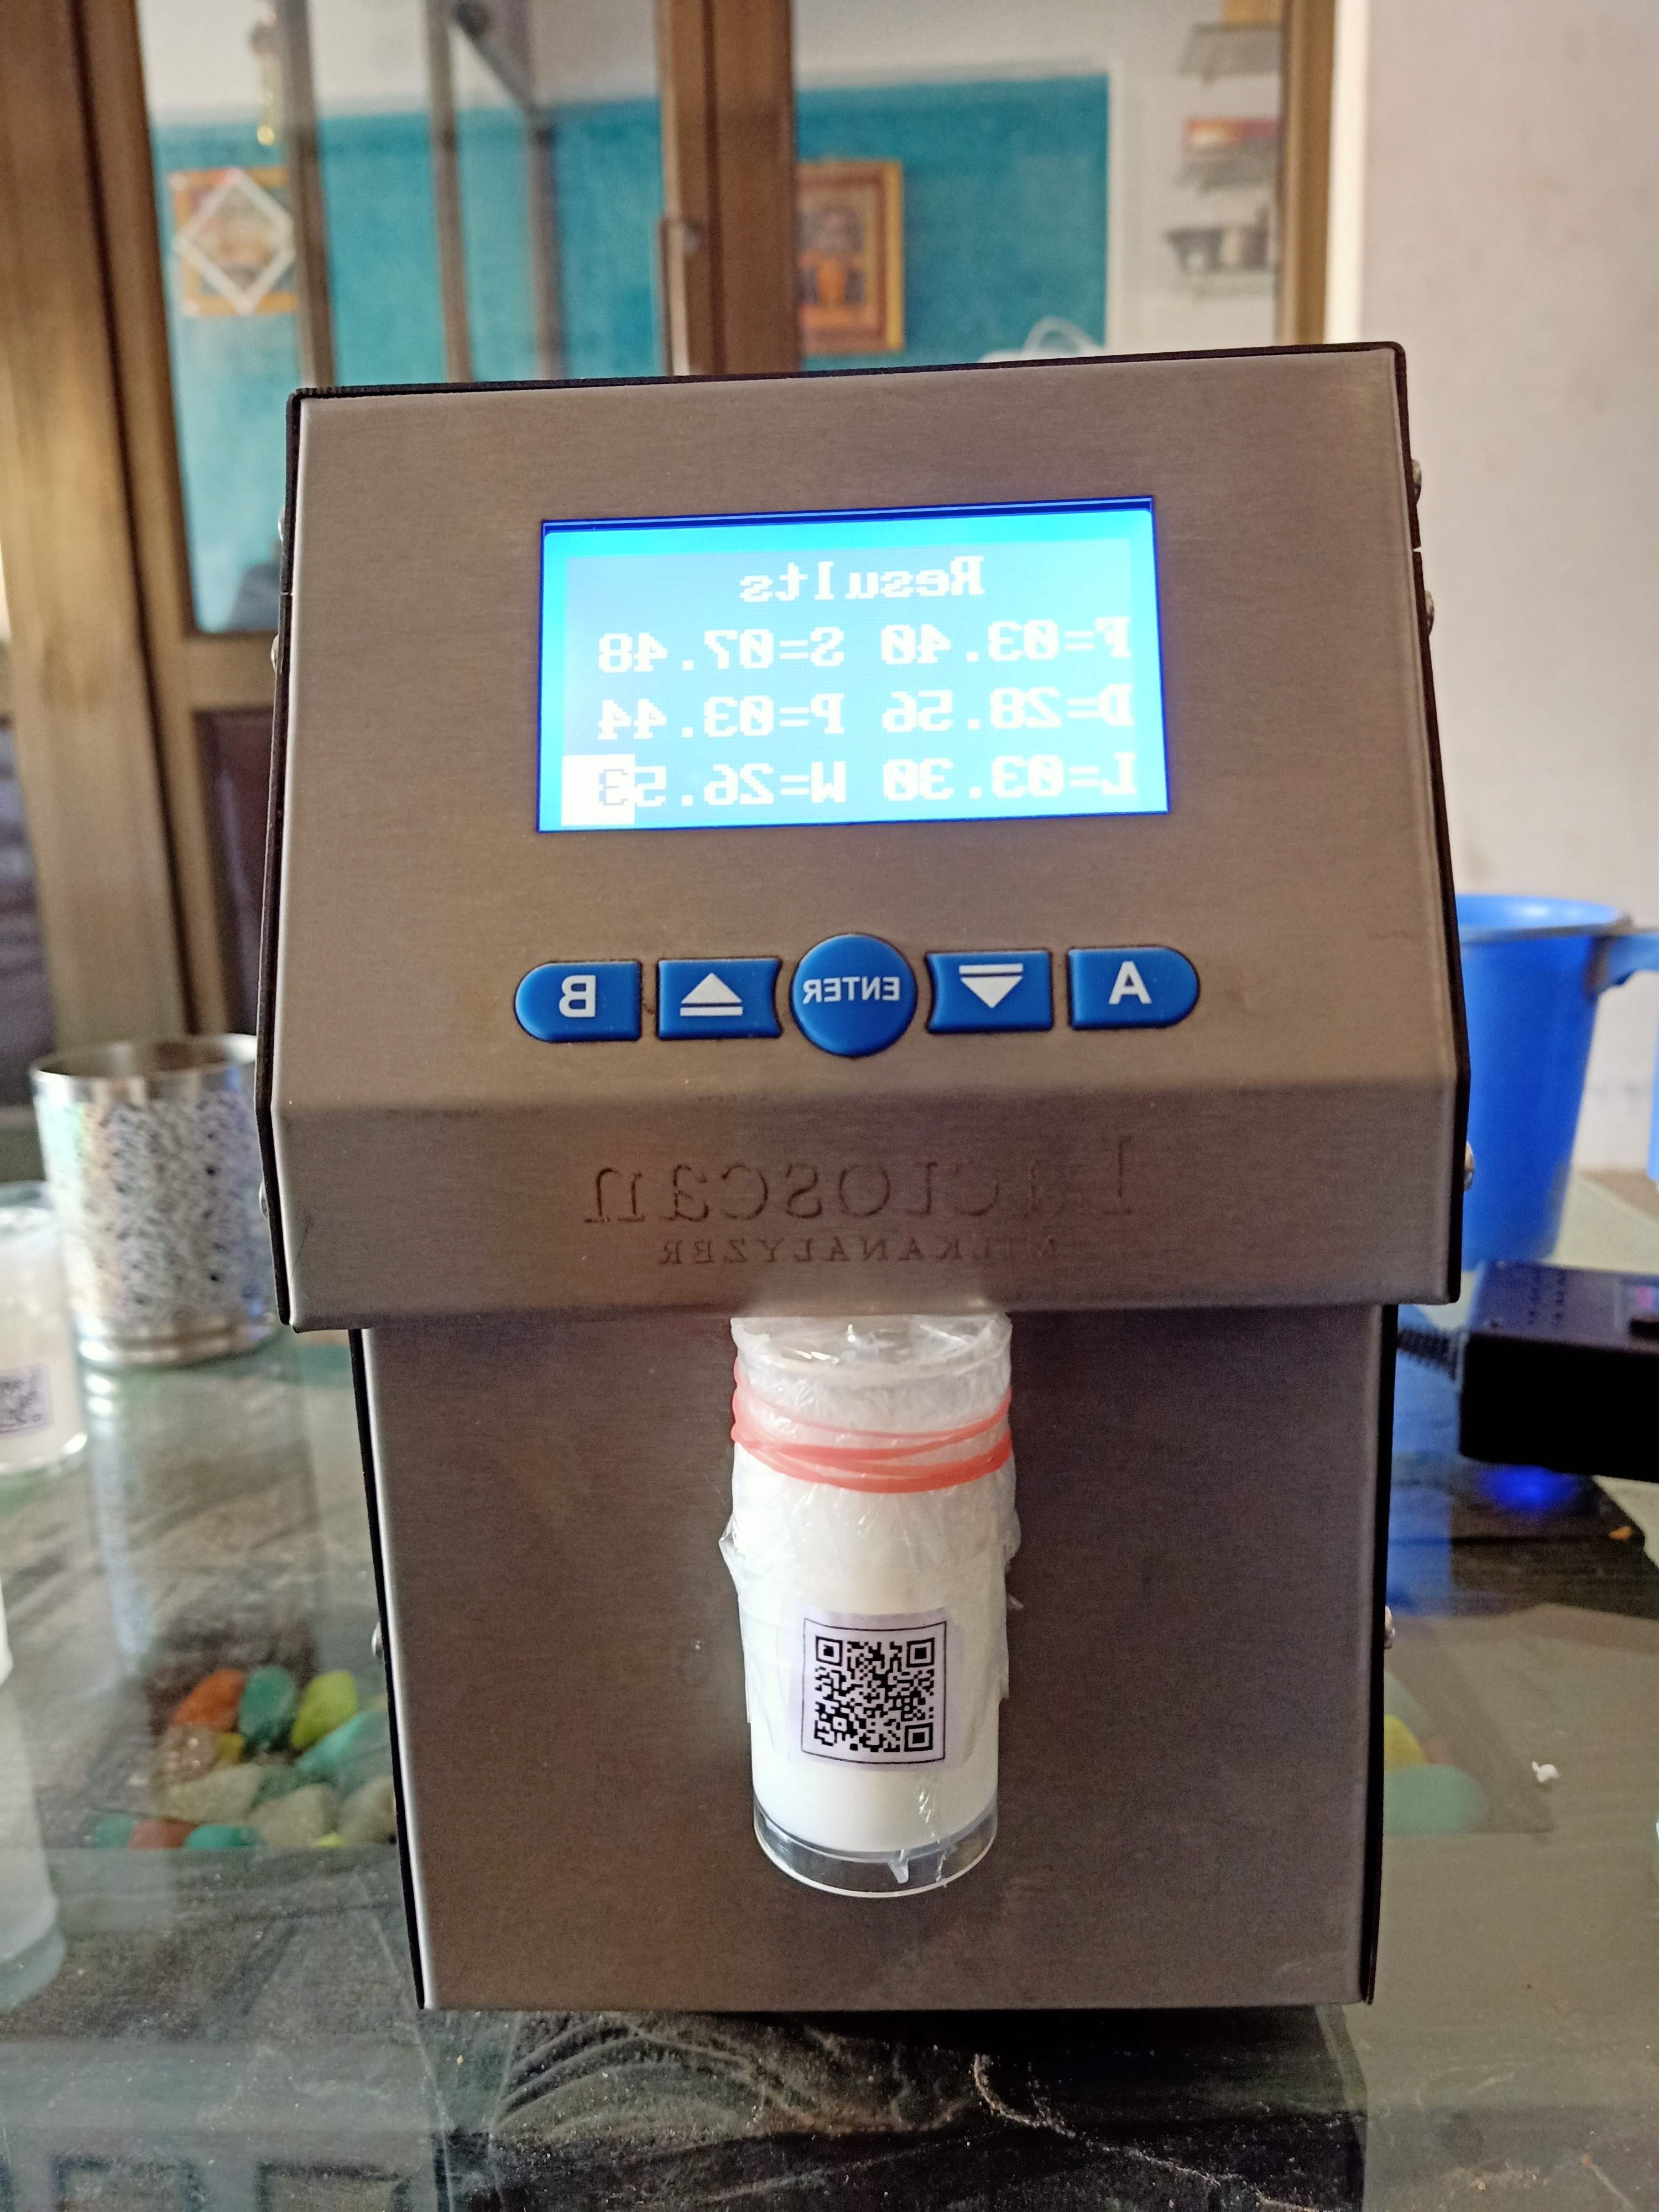lcd: (500, 495, 1201, 878)
qr: (786, 1608, 979, 1794)
